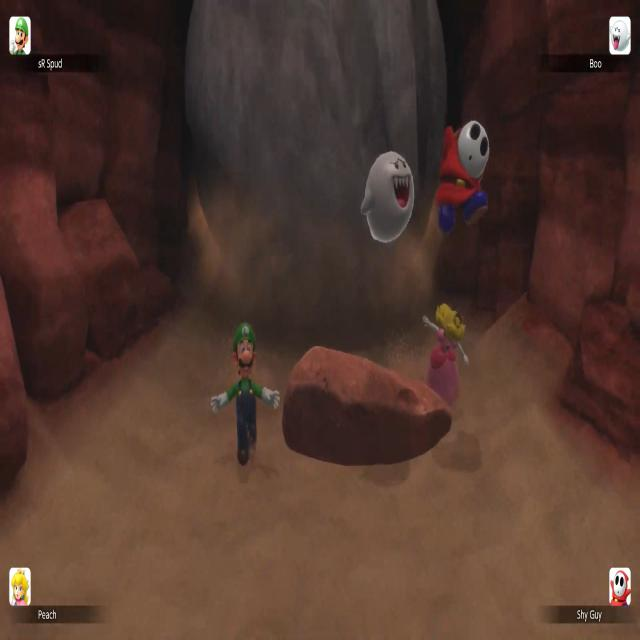Boo: (361, 151, 415, 241)
Luigi: (211, 323, 279, 464)
Peach: (422, 303, 469, 408)
Shy Guy: (437, 120, 490, 234)
obstacle: (282, 345, 452, 467)
rolling stone: (186, 0, 448, 345)
